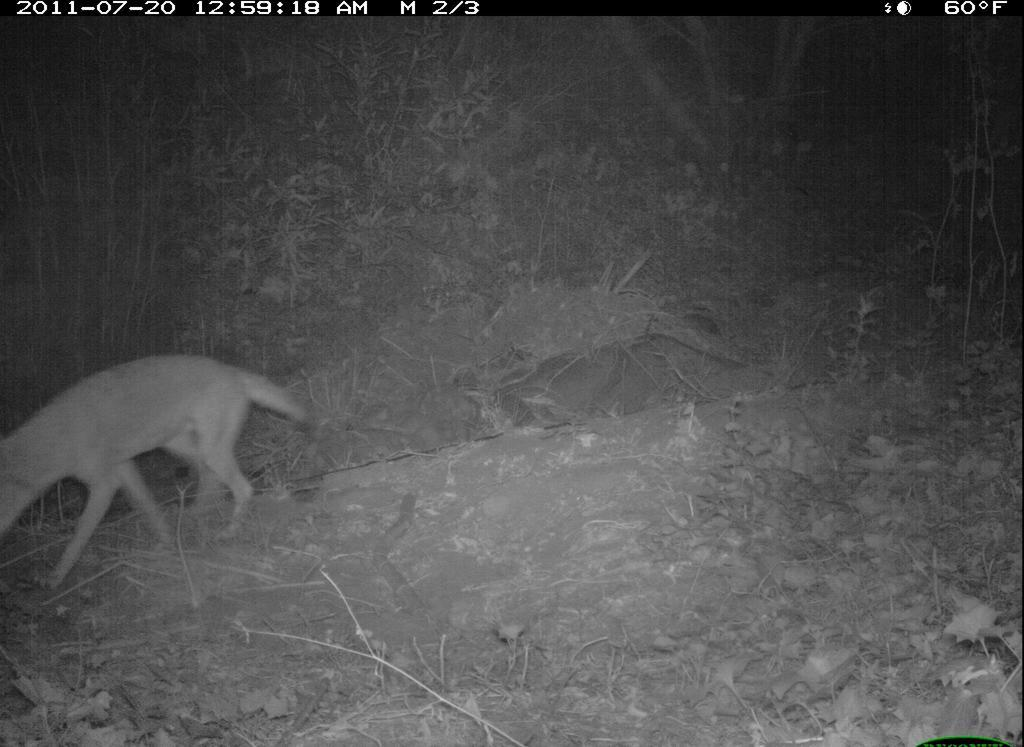coyote: (4, 342, 313, 607)
